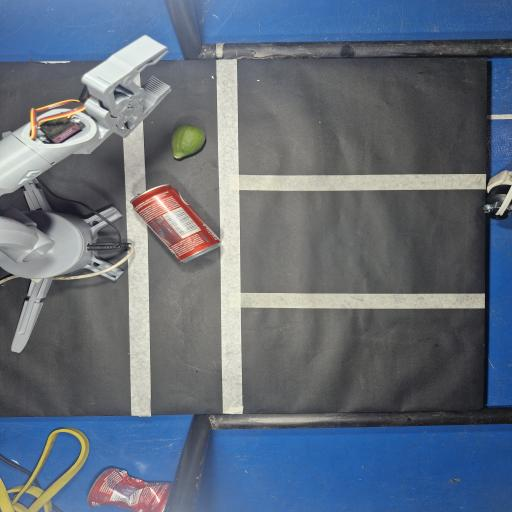higo: (172, 125, 205, 159)
lata: (131, 185, 220, 262)
